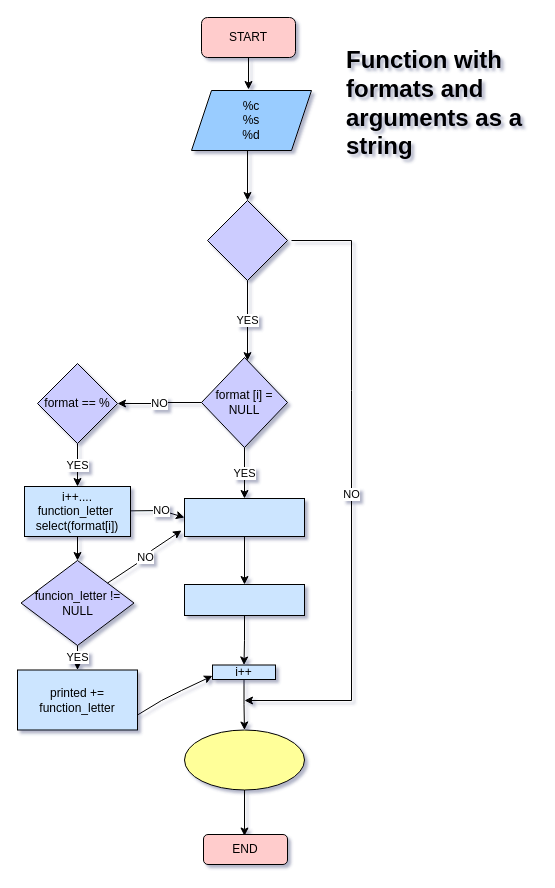
Image size: 555x888. Some labels were removed from this diagram. Here are the shapes that lost their labels. From the top down, the centre of each, then its label:
At point (247, 240): "format = NULL".
At point (244, 517): "_putchar(format[[i])".
At point (244, 600): "printed++".
At point (244, 759): "return (printed)".
